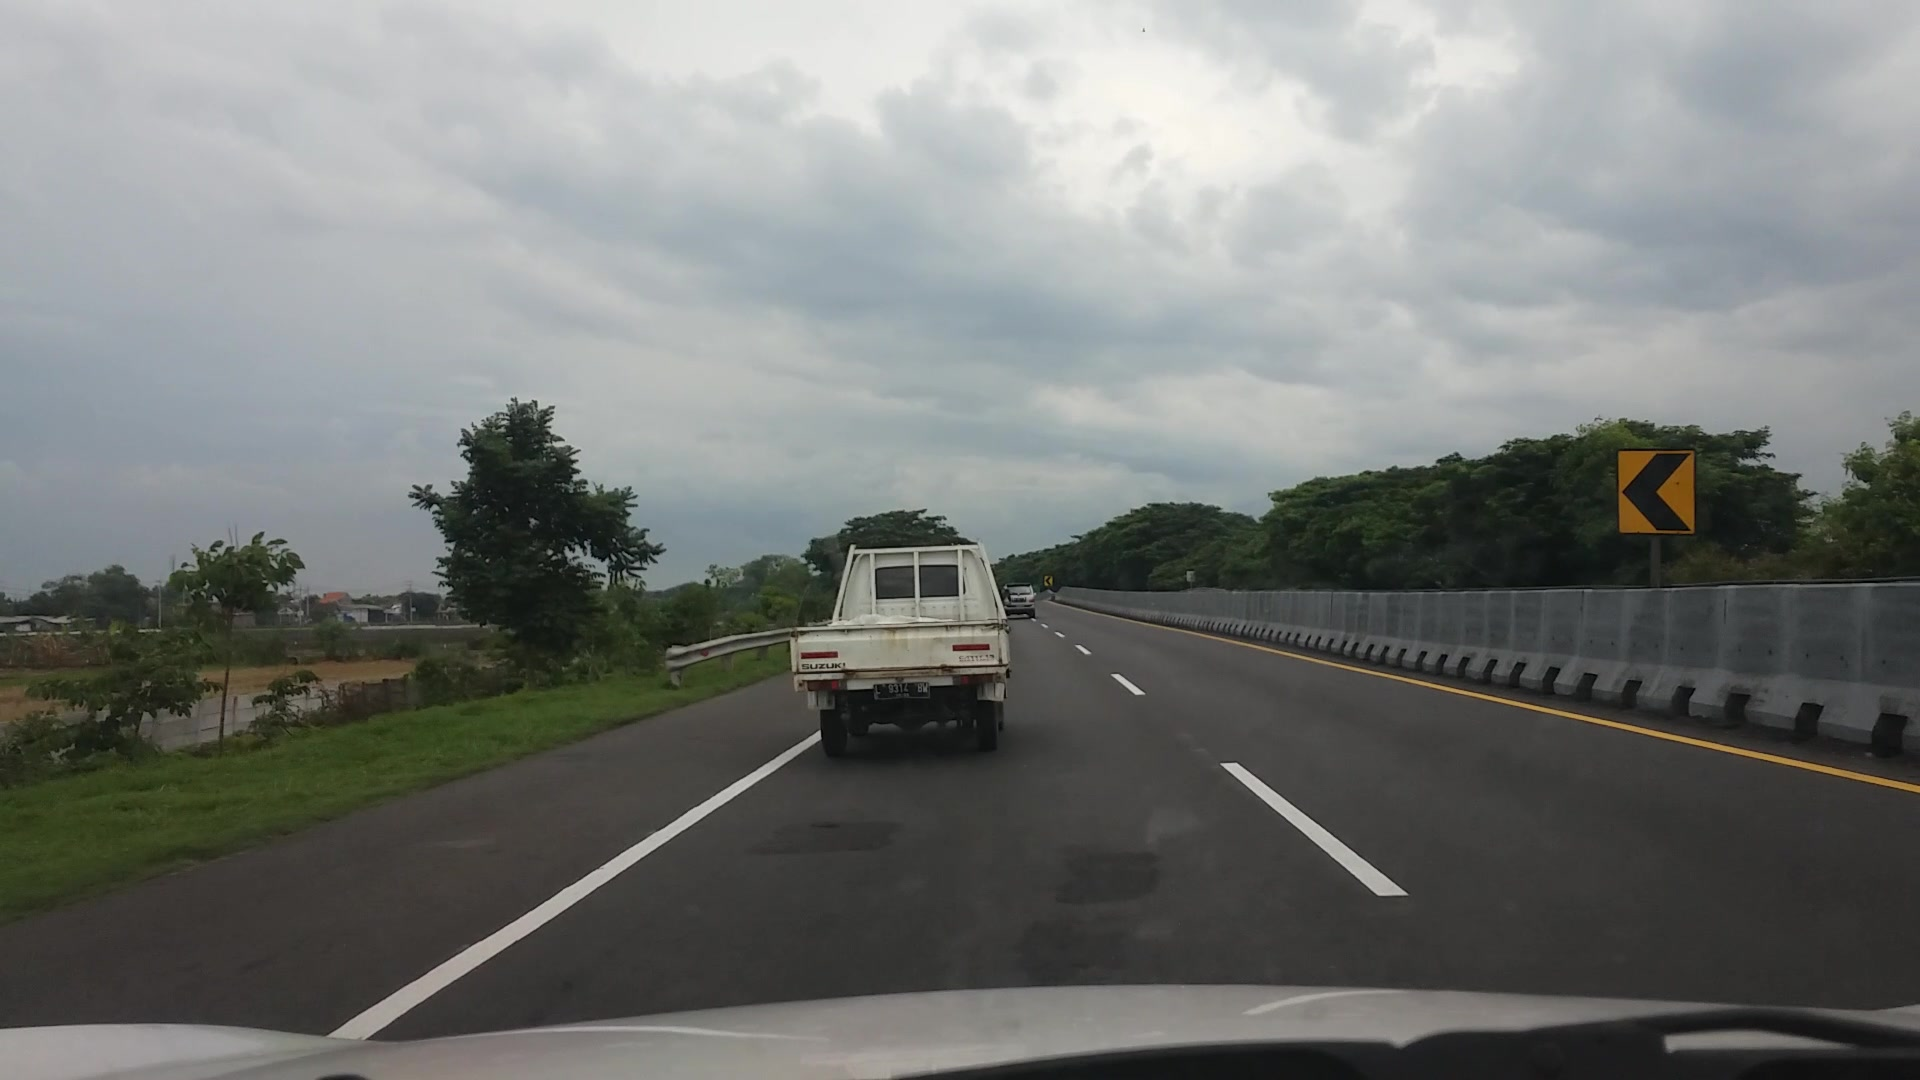plate_positive: (873, 682, 928, 700)
